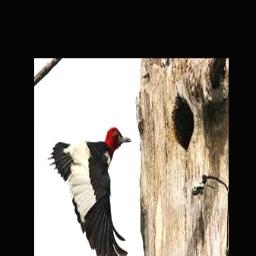Woodpecker: (47, 127, 131, 256)
